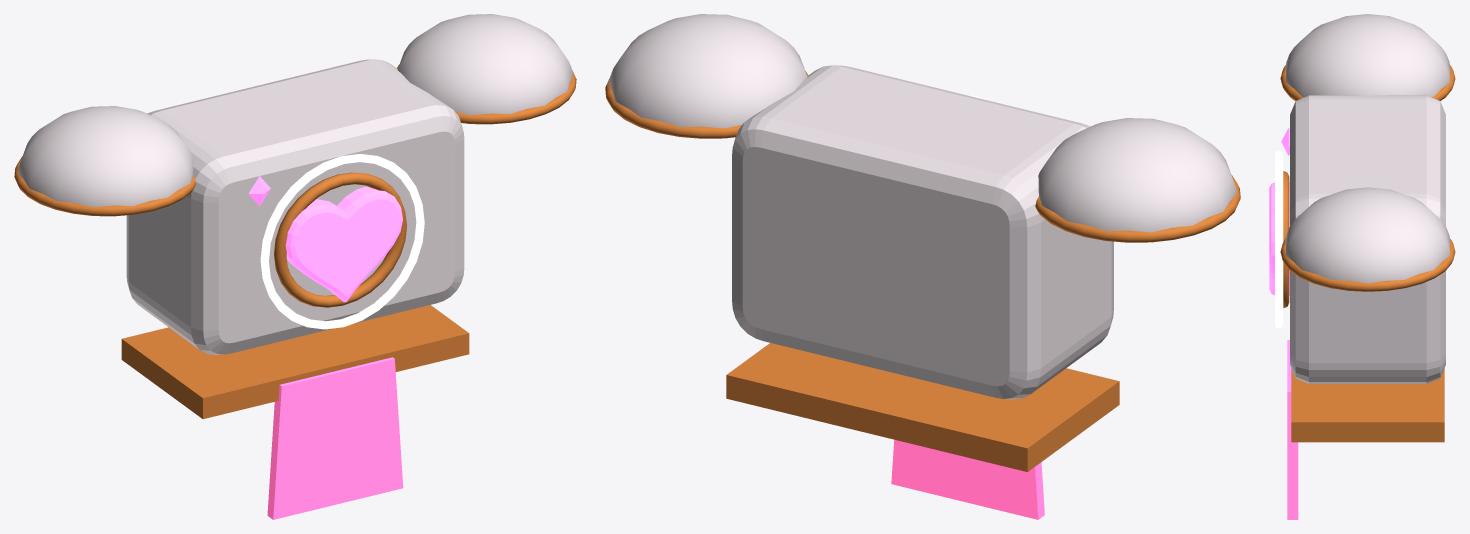
The model's file is eqf_eqmo3.glb.
3 renders of one model, left to right at view 1: azimuth 30°, elevation 25°; view 2: azimuth 150°, elevation 25°; view 3: azimuth 270°, elevation 25°, orthographic. The views are drawn at different scales.
Size of the model in its own units: 4.28 by 3.05 by 1.36.
